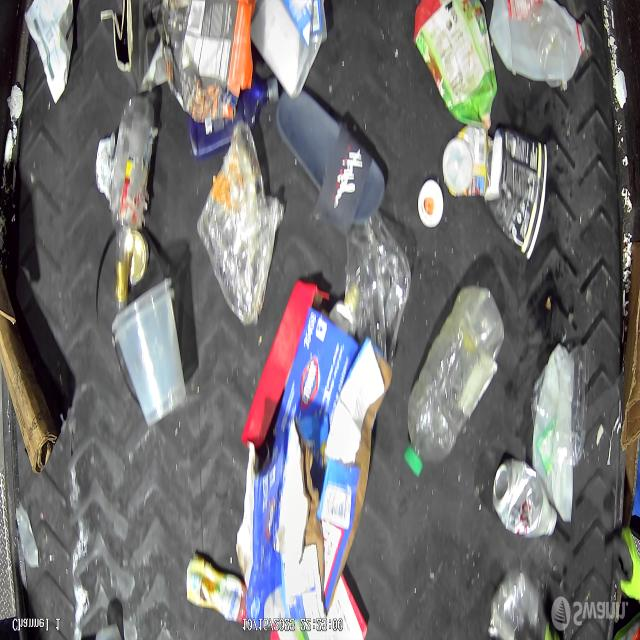can: (124, 229, 150, 286)
milk_jug: (490, 0, 588, 90)
plastic_bottle: (402, 284, 502, 478)
